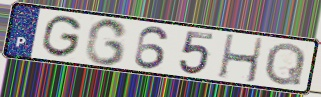5: (177, 29, 217, 75)
6: (133, 24, 170, 71)
G: (83, 17, 131, 67), (40, 14, 85, 60)
H: (216, 33, 265, 85)
Q: (263, 41, 308, 87)
